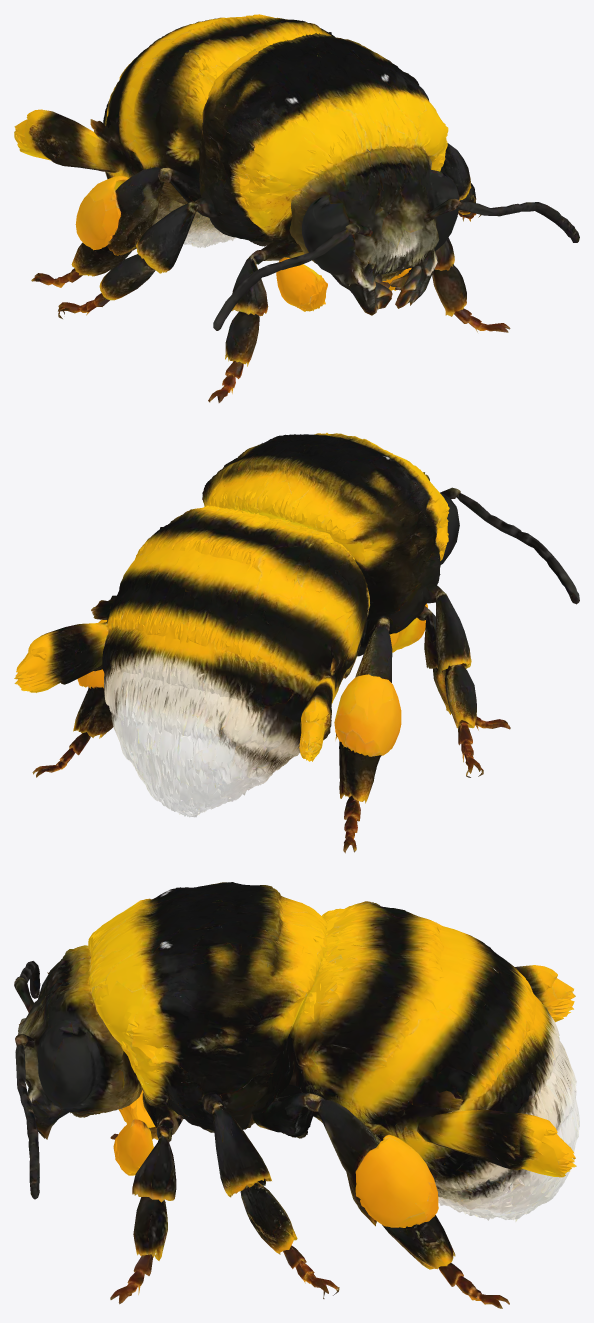
File: bee.glb
3 views of the same model, one above another, from view 1: azimuth 30°, elevation 25°; view 2: azimuth 150°, elevation 25°; view 3: azimuth 270°, elevation 25° (orthographic). The views are drawn at different scales.
Visible parts, largest first — view 1: Mesh_0; view 2: Mesh_0; view 3: Mesh_0.
Boxes of the visible parts, x1,y1,x2,y2 form: Mesh_0: [14, 14, 579, 402]; Mesh_0: [14, 433, 579, 853]; Mesh_0: [14, 882, 579, 1308].
Size of the model in its own units: 1.87 by 1.19 by 1.88.
1 material, 1 textured.
